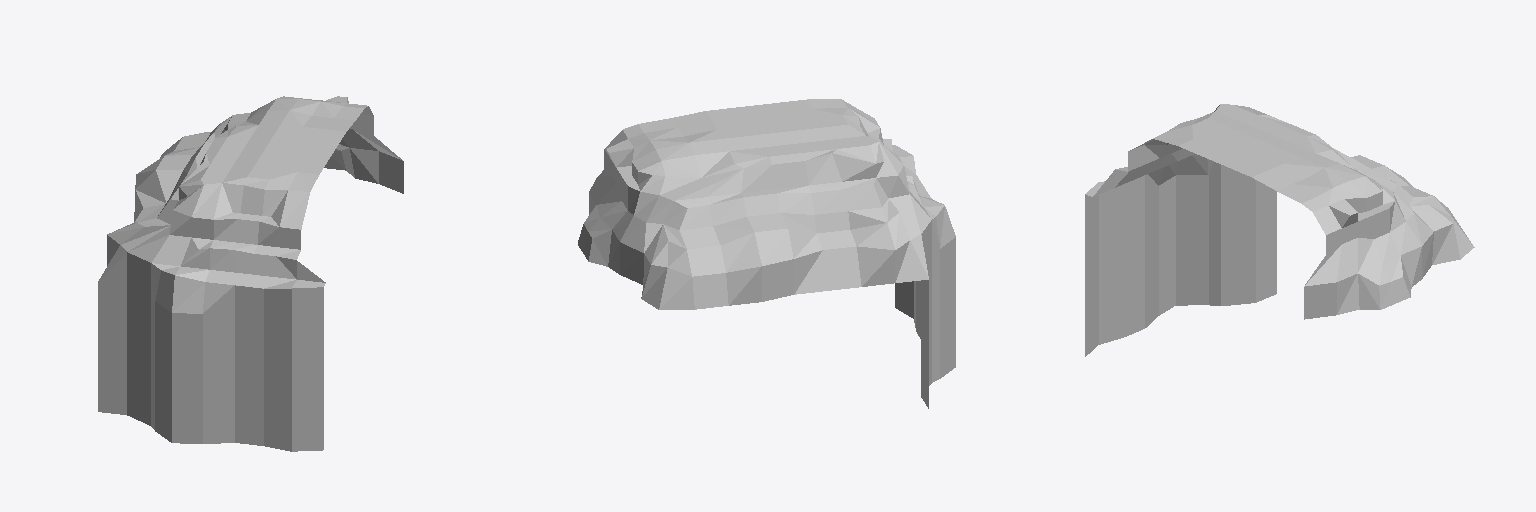
The model's file is mLv1Mountain08.obj.
3 views of the same model, side by side, from view 1: azimuth 30°, elevation 25°; view 2: azimuth 150°, elevation 25°; view 3: azimuth 270°, elevation 25° (orthographic).
Parts seen in each view (by area): view 1: mMountain06; view 2: mMountain06; view 3: mMountain06.
Boxes of the visible parts, x1=… form: mMountain06: x1=98, y1=96, x2=403, y2=451; mMountain06: x1=578, y1=99, x2=955, y2=408; mMountain06: x1=1085, y1=104, x2=1474, y2=356.
Size of the model in its own units: 57.98 by 40.25 by 61.26.